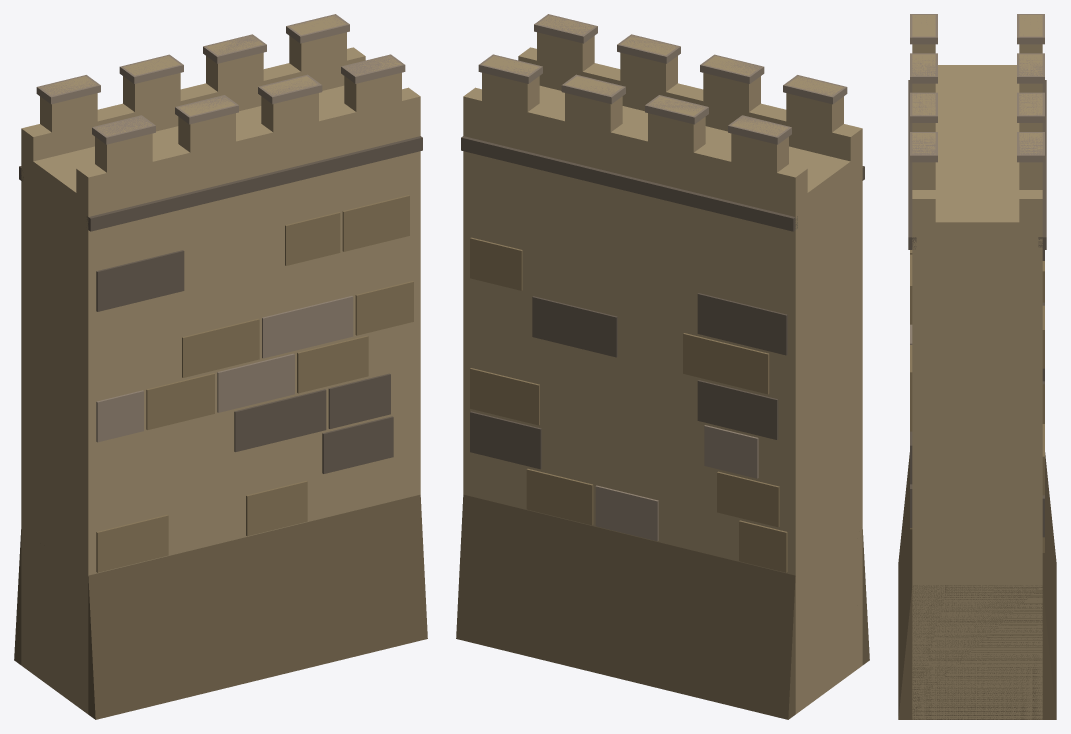
File: fort_masonry_wall.glb
3 renders of one model, left to right at view 1: azimuth 30°, elevation 25°; view 2: azimuth 150°, elevation 25°; view 3: azimuth 270°, elevation 25°, orthographic. The views are drawn at different scales.
Visible parts, largest first — view 1: fort_masonry_wall; view 2: fort_masonry_wall; view 3: fort_masonry_wall.
Boxes of the visible parts, left/top/right/bottom form: fort_masonry_wall: left=14, top=14, right=427, bottom=719; fort_masonry_wall: left=456, top=14, right=869, bottom=719; fort_masonry_wall: left=898, top=14, right=1056, bottom=719.
Bounding box in the file's own units: 8 × 13.2 × 3.4.
